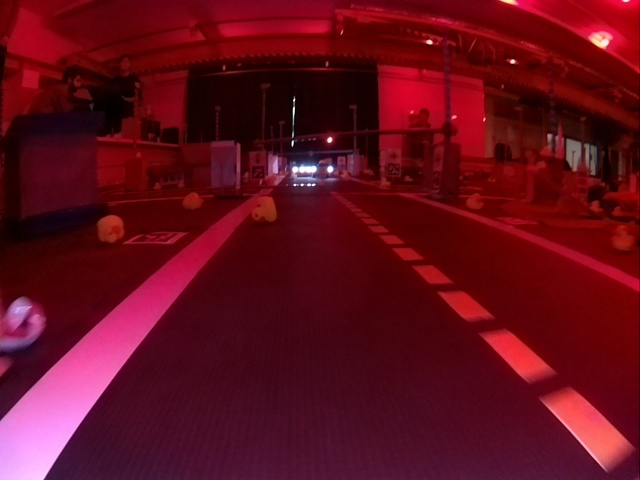Duckie: (100, 216, 124, 242), (613, 225, 636, 251), (252, 197, 276, 221), (183, 194, 201, 207), (468, 195, 483, 209)
Intersection sign: (388, 152, 398, 162)
QR code: (126, 232, 187, 244), (251, 166, 264, 179), (388, 165, 398, 175)
Signal sign: (252, 152, 263, 164)
Traffic light: (326, 136, 335, 146)
